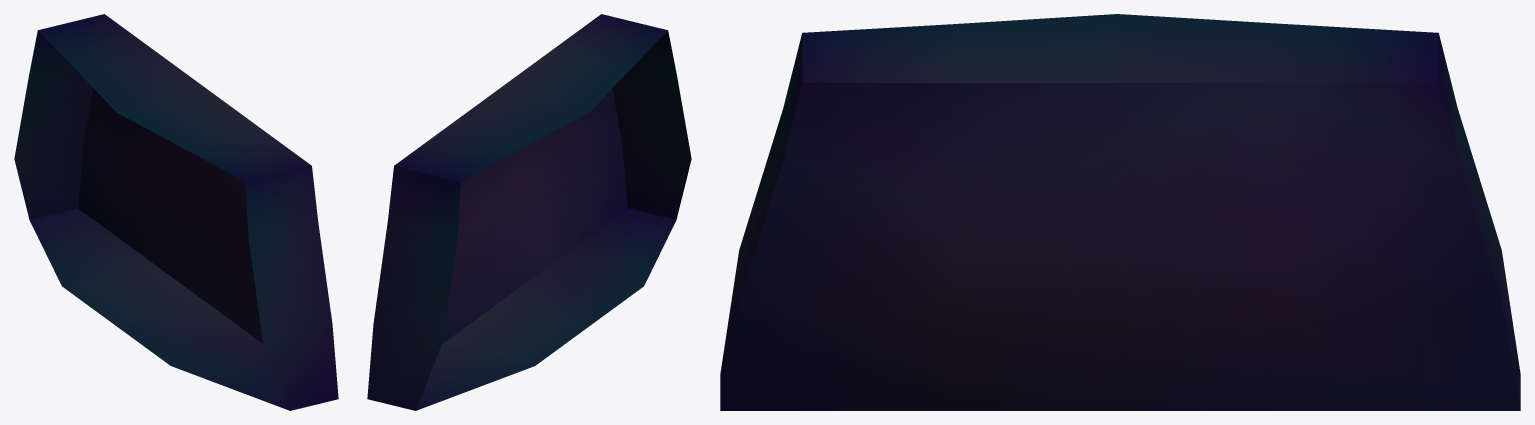
The model's file is unsorted_07.glb.
3 views of the same model, side by side, from view 1: azimuth 30°, elevation 25°; view 2: azimuth 150°, elevation 25°; view 3: azimuth 270°, elevation 25° (orthographic). The views are drawn at different scales.
Parts seen in each view (by area): view 1: black_12; view 2: black_12; view 3: black_12.
Boxes of the visible parts, box(x1,y1,x2,y2) form: black_12: box(14, 14, 338, 410); black_12: box(367, 14, 691, 410); black_12: box(720, 14, 1520, 410).
Bounding box in the file's own units: 0.3319 × 0.5519 × 1.22.
